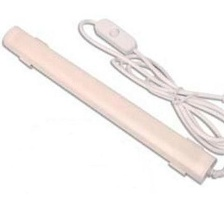light_bulb: (0, 19, 224, 186)
